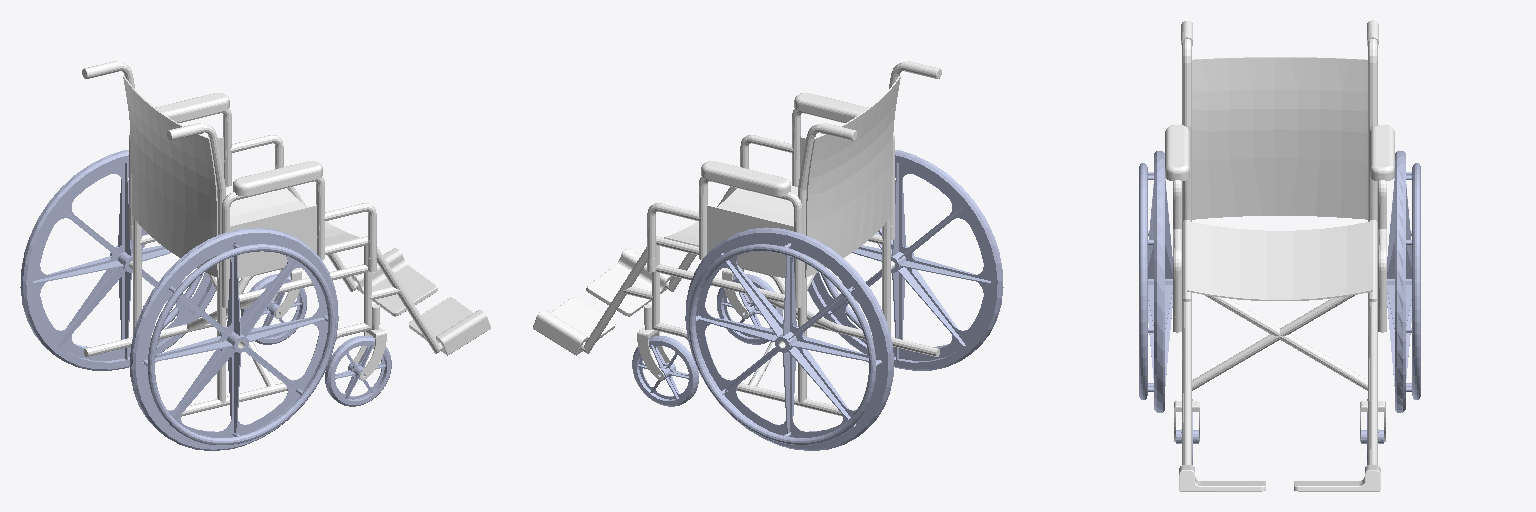
robot.urdf — wheeldiffdrive:
<?xml version="1.0" encoding="utf-8"?>
<robot name="wheeldiffdrive">


<!--                    DEFINING MATERIALS   -->
  <material name="blue">
    <color rgba="0 0 1 1"/>
  </material>

  <material name="white">
    <color rgba="1 1 1 1"/>
  </material>
<material name="red">
    <color rgba=" 0.5 0.2 0.8 1"/>
  </material>

<!--Defining the robot-->
<!--                      BASE LINK            -->
    <link
    name="base_link">
    <inertial>
      <origin
        xyz="0.215897452397763 -0.466115278224488 -0.406633769007423"
        rpy="0 0 0" />
      <mass
        value="1.16212370053717" />
      <inertia
        ixx="0.308297541964297"
        ixy="-3.58520428121968E-07"
        ixz="4.87684354694172E-06"
        iyy="0.323504290432657"
        iyz="-0.0485683019754604"
        izz="0.281374166804536" />
    </inertial>
    <visual>
      <origin
        xyz="0 0 0"
        rpy="0 0 -1.570796" />
      <geometry>
        <mesh
          filename="package://project_ws/meshes/chair_link.STL" />
      </geometry>
      <material
        name="">
        <color
          rgba="1 1 1 1" />
      </material>
    </visual>
    <collision>
      <origin
        xyz="0 0 0"
        rpy="0 0 0" />
      <geometry>
        <mesh
          filename="package://project_ws/meshes/chair_link.STL" />
      </geometry>
    </collision>
  </link>
    <gazebo reference="base_link">
    <material>Gazebo/Blue</material>
  </gazebo>

    
<!--                    RIGHT FRONT WHEEL                       -->
    <link
    name="right_front_wheel">
    <inertial>
      <origin
        xyz="3.68982622234171E-13 0 0"
        rpy="0 0 0" />
      <mass
        value="4.09127347260337" />
      <inertia
        ixx="0.00171792777524043"
        ixy="2.83050865876848E-20"
        ixz="-1.13478840286474E-19"
        iyy="0.000880037934920852"
        iyz="2.19202862326551E-20"
        izz="0.000880037934920852" />
    </inertial>
    <visual>
      <origin
        xyz="0 0 0"
        rpy="0 0 0" />
      <geometry>
        <mesh
          filename="package://project_ws/meshes/right_front_wheel_link.STL" />
      </geometry>
      <material
        name="">
        <color
          rgba="0.796078431372549 0.823529411764706 0.937254901960784 1" />
      </material>
    </visual>
    <collision>
      <origin
        xyz="0 0 0"
        rpy="0 0 0" />
      <geometry>
        <mesh
          filename="package://project_ws/meshes/right_front_wheel_link.STL" />
      </geometry>
    </collision>
  </link>
    <gazebo reference="right_front_wheel">
    <material>Gazebo/White</material>
  </gazebo>
  
  
      <joint name="joint_base_to_right_front_wheel" type="continuous">
    <origin
      xyz="0.55563 -0.4318 -0.79375"
      rpy="0 0 1.570796" /><!--0.4318 0.55563-->
    <axis xyz="1 0 0" rpy="0 0 0" />  
    <parent link="base_link"/>
    <child link="right_front_wheel"/>
    </joint>
    
    <!--                    LEFT FRONT WHEEL                       -->
    <link
    name="left_front_wheel">
    <inertial>
      <origin
        xyz="3.68919128075658E-13 1.11022302462516E-16 -1.11022302462516E-16"
        rpy="0 0 0" />
      <mass
        value="4.09127347260337" />
      <inertia
        ixx="0.00171792777524043"
        ixy="-3.04628631784685E-20"
        ixz="-4.66323070387447E-20"
        iyy="0.000880037934920854"
        iyz="-9.93650710829319E-20"
        izz="0.000880037934920854" />
    </inertial>
    <visual>
      <origin
        xyz="0 0 0"
        rpy="0 0 0" />
      <geometry>
        <mesh
          filename="package://project_ws/meshes/left_front_wheel_link.STL" />
      </geometry>
      <material
        name="">
        <color
          rgba="0.796078431372549 0.823529411764706 0.937254901960784 1" />
      </material>
    </visual>
    <collision>
      <origin
        xyz="0 0 0"
        rpy="0 0 0" />
      <geometry>
        <mesh
          filename="package://project_ws/meshes/left_front_wheel_link.STL" />
      </geometry>
    </collision>
  </link>
    <gazebo reference="left_front_wheel">
    <material>Gazebo/White</material>
    </gazebo>
    
          <!--           JOINT BASE TO LEFT FRONT WHEEL  -->

    <joint name="joint_base_to_left_front_wheel" type="continuous">
    <origin
      xyz="0.55563 0 -0.79375"
      rpy="0 0 1.570796" />
    <axis xyz="1 0 0" rpy="0 0 0" />  
    <parent link="base_link"/>
    <child link="left_front_wheel"/>
    </joint>    


    <!--                    RIGHT BACK WHEEL                       -->
    <link
    name="right_back_wheel">
    <inertial>
      <origin
        xyz="0.0469427212195542 0 5.55111512312578E-17"
        rpy="0 0 0" />
      <mass
        value="4.09127347260337" />
      <inertia
        ixx="0.141718020445608"
        ixy="2.73584332854114E-18"
        ixz="-4.77994102978222E-18"
        iyy="0.0710324578470619"
        iyz="2.49366499671666E-17"
        izz="0.0710324578470619" />
    </inertial>
    <visual>
      <origin
        xyz="0 0 0"
        rpy="0 0 0" />
      <geometry>
        <mesh
          filename="package://project_ws/meshes/right_back_wheel_link.STL" />
      </geometry>
      <material
        name="">
        <color
          rgba="0.796078431372549 0.823529411764706 0.937254901960784 1" />
      </material>
    </visual>
    <collision>
      <origin
        xyz="0 0 0"
        rpy="0 0 0" />
      <geometry>
        <mesh
          filename="package://project_ws/meshes/right_back_wheel_link.STL" />
      </geometry>
    </collision>
  </link>
    <gazebo reference="right_back_wheel">
    <material>Gazebo/White</material>
  </gazebo>
  
          <!--           JOINT BASE TO RIGHT BACK WHEEL  -->
    <joint name="joint_base_to_right_back_wheel" type="continuous">
    <origin
      xyz="0.1524 -0.4572 -0.5842"
      rpy="0 0 -1.570796" />
    <axis xyz="-1 0 0"  rpy="0 0 0"/>  
    <parent link="base_link"/> 
    <child link="right_back_wheel"/>
    </joint>
    
        <!--                    LEFT BACK WHEEL                       -->
    <link
    name="left_back_wheel">
    <inertial>
      <origin
        xyz="0.0469427212195542 5.55111512312578E-17 0"
        rpy="0 0 0" />
      <mass
        value="4.09127347260337" />
      <inertia
        ixx="0.141718020445608"
        ixy="-7.69093859733278E-19"
        ixz="-3.91372571951635E-18"
        iyy="0.0710324578470619"
        iyz="-4.85722573273506E-17"
        izz="0.071032457847062" />
    </inertial>
    <visual>
      <origin
        xyz="0 0 0"
        rpy="0 0 0" />
      <geometry>
        <mesh
          filename="package://project_ws/meshes/left_back_wheel_link.STL" />
      </geometry>
      <material
        name="">
        <color
          rgba="0.796078431372549 0.823529411764706 0.937254901960784 1" />
      </material>
    </visual>
    <collision>
      <origin
        xyz="0 0 0"
        rpy="0 0 0" />
      <geometry>
        <mesh
          filename="package://project_ws/meshes/left_back_wheel_link.STL" />
      </geometry>
    </collision>
  </link>
  <gazebo reference="left_back_wheel">
    <material>Gazebo/White</material>
  </gazebo>

      <!--           JOINT BASE TO LEFT BACK WHEEL    -->
    <joint name="joint_base_to_left_back_wheel" type="continuous">
    <origin
      xyz="0.1524 0.0254 -0.5842"
      rpy="0 0 1.570796" />
    <axis xyz="1 0 0" rpy="0 0 0" />  
    <parent link="base_link"/>
    <child link="left_back_wheel"/>
    </joint>
    
    <!--                       ROS CONTROL      -->
<gazebo>
  <plugin name="skid_steer_drive_controller" filename="libgazebo_ros_skid_steer_drive.so">
    <updateRate>100.0</updateRate>
    <robotNamespace>vehiclediffdrive</robotNamespace> 
    <leftFrontJoint>joint_base_to_left_front_wheel</leftFrontJoint>
    <rightFrontJoint>joint_base_to_right_front_wheel</rightFrontJoint>
    <leftRearJoint>joint_base_to_left_back_wheel</leftRearJoint>
    <rightRearJoint>joint_base_to_right_back_wheel</rightRearJoint>
    <wheelSeparation>0.2</wheelSeparation>
    <wheelDiameter>0.14</wheelDiameter>
    <robotBaseFrame>base_link</robotBaseFrame>
    <torque>20</torque>
    <commandTopic>cmd_vel</commandTopic>
    <broadcastTF>true</broadcastTF>
  </plugin>
</gazebo>

</robot>

--- Facts derived from the render (not from the file) ---
The picture shows the robot from 3 angles, left to right: view 1: azimuth 30°, elevation 25°; view 2: azimuth 150°, elevation 25°; view 3: azimuth 270°, elevation 25°; orthographic projection.
Model wheeldiffdrive with 5 links and 4 joints (4 continuous), rooted at base_link, posed every joint at zero.
Visible links, largest first — view 1: base_link, right_back_wheel, left_back_wheel, right_front_wheel, left_front_wheel; view 2: base_link, left_back_wheel, right_back_wheel, left_front_wheel, right_front_wheel; view 3: base_link, right_back_wheel, left_back_wheel.
Boxes of the visible links, <box> form: base_link: <box>82,61,490,416</box>; right_back_wheel: <box>130,227,338,450</box>; left_back_wheel: <box>20,150,215,370</box>; right_front_wheel: <box>325,336,391,406</box>; left_front_wheel: <box>241,274,306,344</box>; base_link: <box>533,61,941,416</box>; left_back_wheel: <box>685,227,893,450</box>; right_back_wheel: <box>808,150,1003,370</box>; left_front_wheel: <box>632,336,698,406</box>; right_front_wheel: <box>717,274,782,344</box>; base_link: <box>1165,20,1394,491</box>; right_back_wheel: <box>1139,151,1172,412</box>; left_back_wheel: <box>1387,151,1420,412</box>.
Size in the robot's own frame: 1.09 by 0.6541 by 0.9033 metres.
5 mesh visuals loaded from 5 distinct referenced files (5 binary STL).